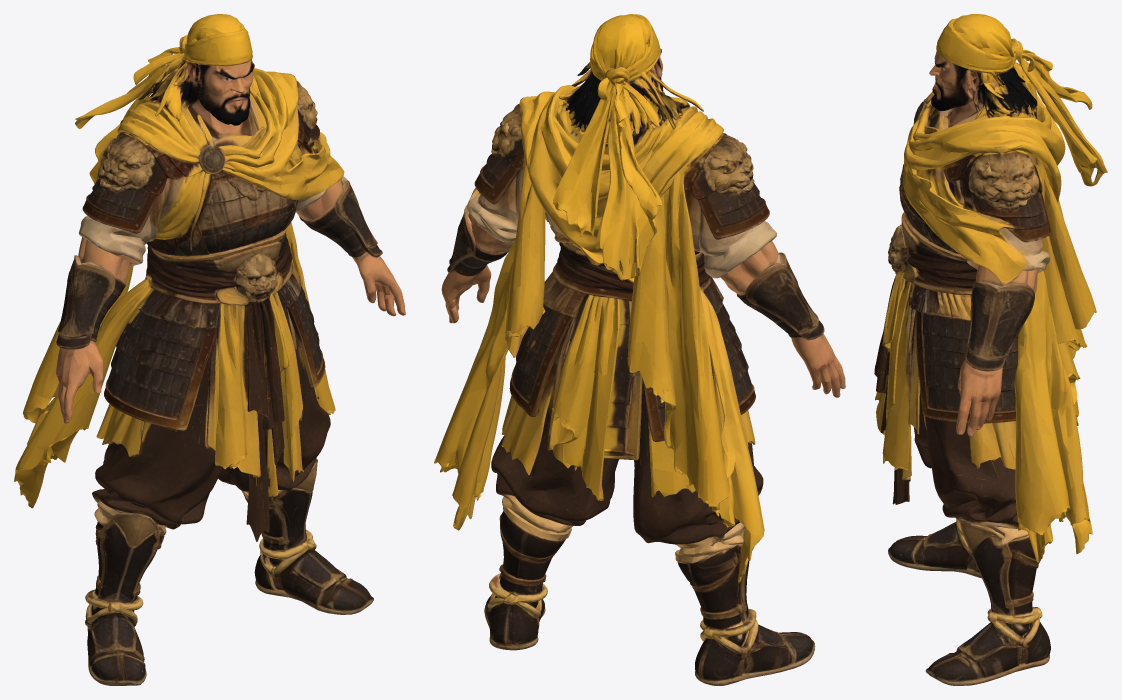
File: glb.glb
3 renders of one model, left to right at view 1: azimuth 30°, elevation 25°; view 2: azimuth 150°, elevation 25°; view 3: azimuth 270°, elevation 25°, orthographic. The views are drawn at different scales.
Bounding box in the file's own units: 1.18 × 1.9 × 0.6653.
1 material, 1 textured.
